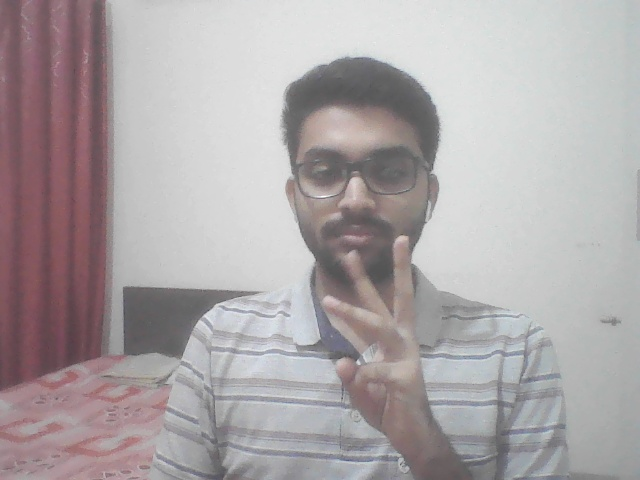water: (299, 226, 459, 456)
